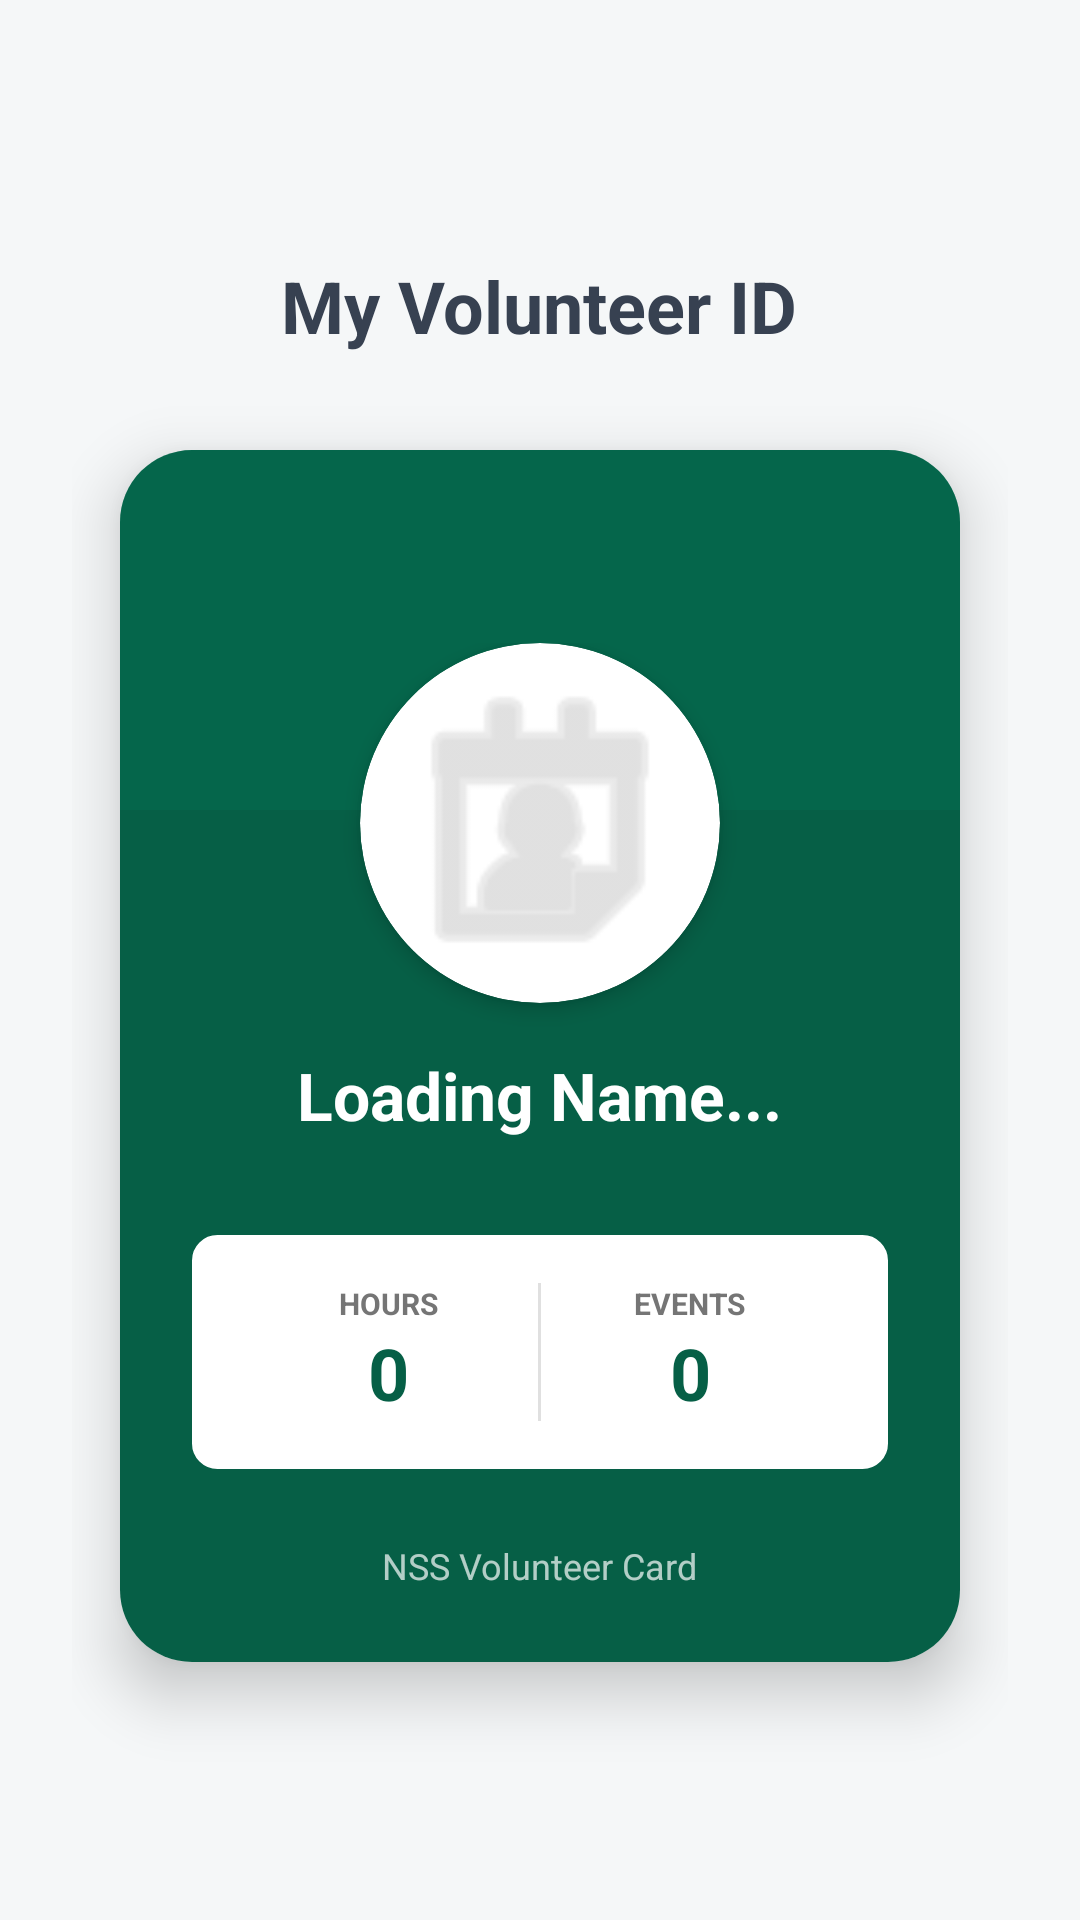

Point at icon controls on the screen. Image size 1080px×1920px, points as (x,y).
calendar: (540,823)
